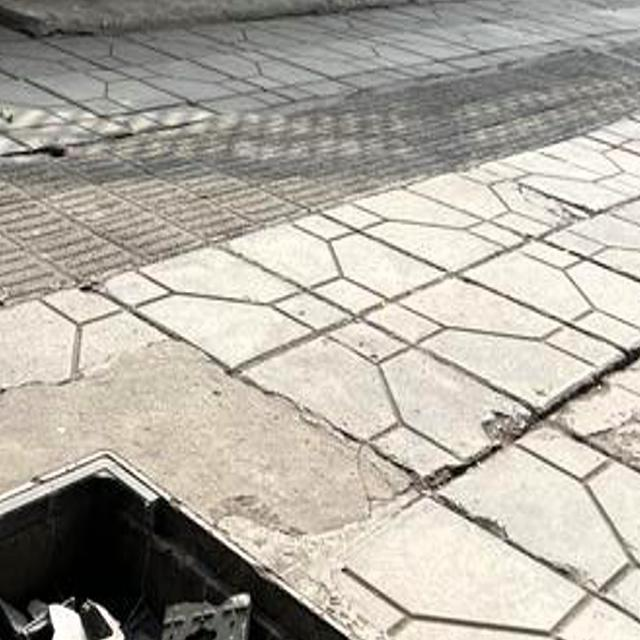broke: (0, 360, 640, 640)
